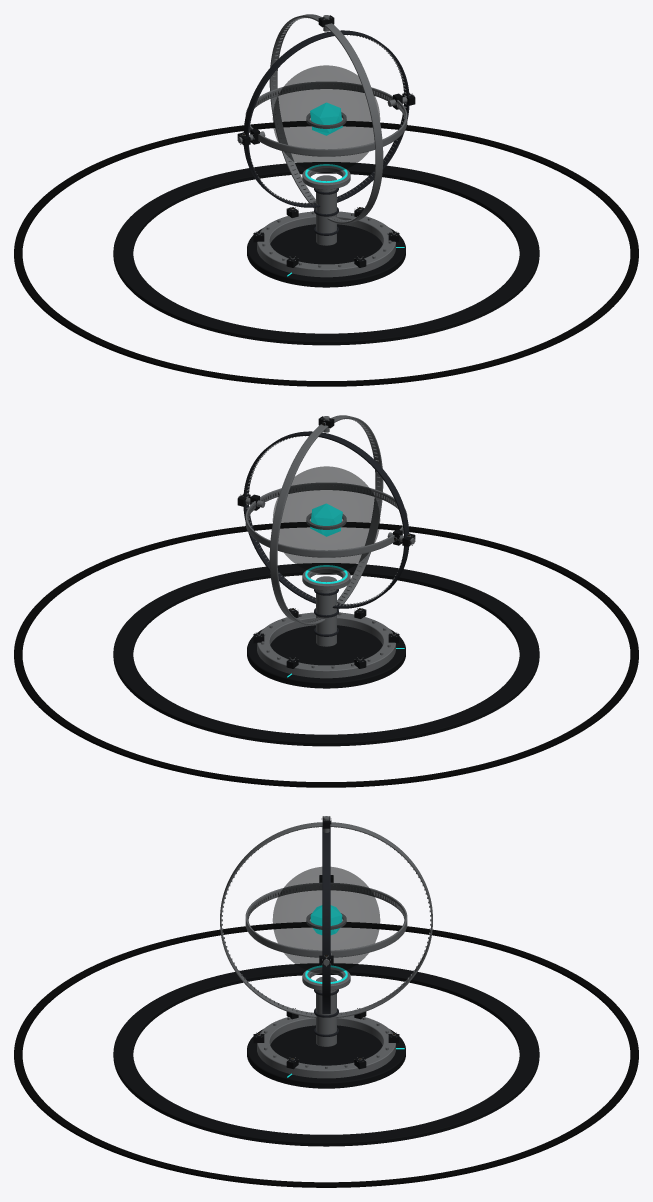
Rendered from prediction_core.glb.
3 renders of one model, top to bottom at view 1: azimuth 30°, elevation 25°; view 2: azimuth 150°, elevation 25°; view 3: azimuth 270°, elevation 25°, orthographic.
Parts seen in each view (by area): view 1: HallRing, Cradle, CoreShell, Gyro_2, Gyro_1, Gyro_0, Core; view 2: HallRing, Cradle, CoreShell, Gyro_2, Gyro_1, Gyro_0, Core; view 3: HallRing, Cradle, CoreShell, Gyro_2, Gyro_0, Gyro_1, Core.
Part boxes in pixels (bbox=[...]): HallRing: bbox=[14, 121, 638, 386]; Cradle: bbox=[247, 166, 405, 287]; CoreShell: bbox=[272, 65, 380, 172]; Gyro_2: bbox=[269, 14, 383, 223]; Gyro_1: bbox=[237, 30, 415, 207]; Gyro_0: bbox=[245, 81, 407, 156]; Core: bbox=[306, 102, 346, 135]; HallRing: bbox=[14, 522, 638, 787]; Cradle: bbox=[247, 567, 405, 688]; CoreShell: bbox=[272, 466, 380, 573]; Gyro_2: bbox=[269, 415, 383, 624]; Gyro_1: bbox=[237, 431, 415, 608]; Gyro_0: bbox=[245, 482, 407, 557]; Core: bbox=[306, 503, 346, 536]; HallRing: bbox=[14, 922, 638, 1187]; Cradle: bbox=[247, 967, 405, 1088]; CoreShell: bbox=[272, 867, 380, 973]; Gyro_2: bbox=[220, 816, 432, 1017]; Gyro_0: bbox=[245, 882, 407, 957]; Gyro_1: bbox=[319, 827, 333, 1013]; Core: bbox=[306, 905, 346, 935].
Bounding box in the file's own units: 8.8 × 3.72 × 8.8.
